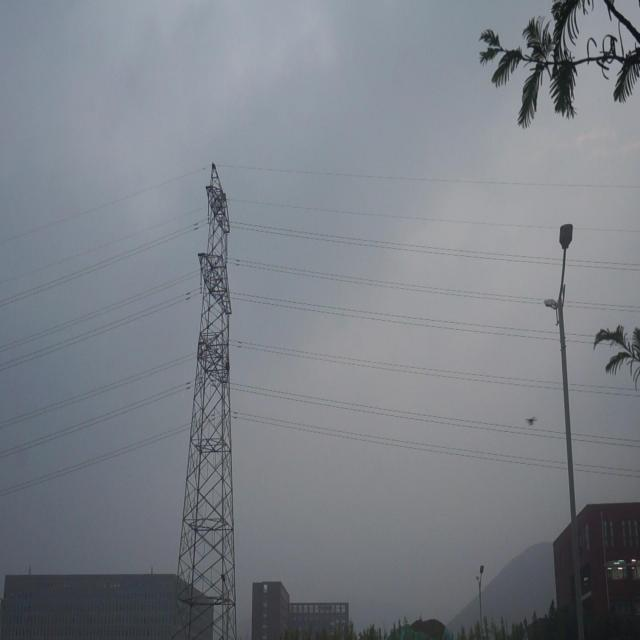UAV: (525, 416, 538, 426)
